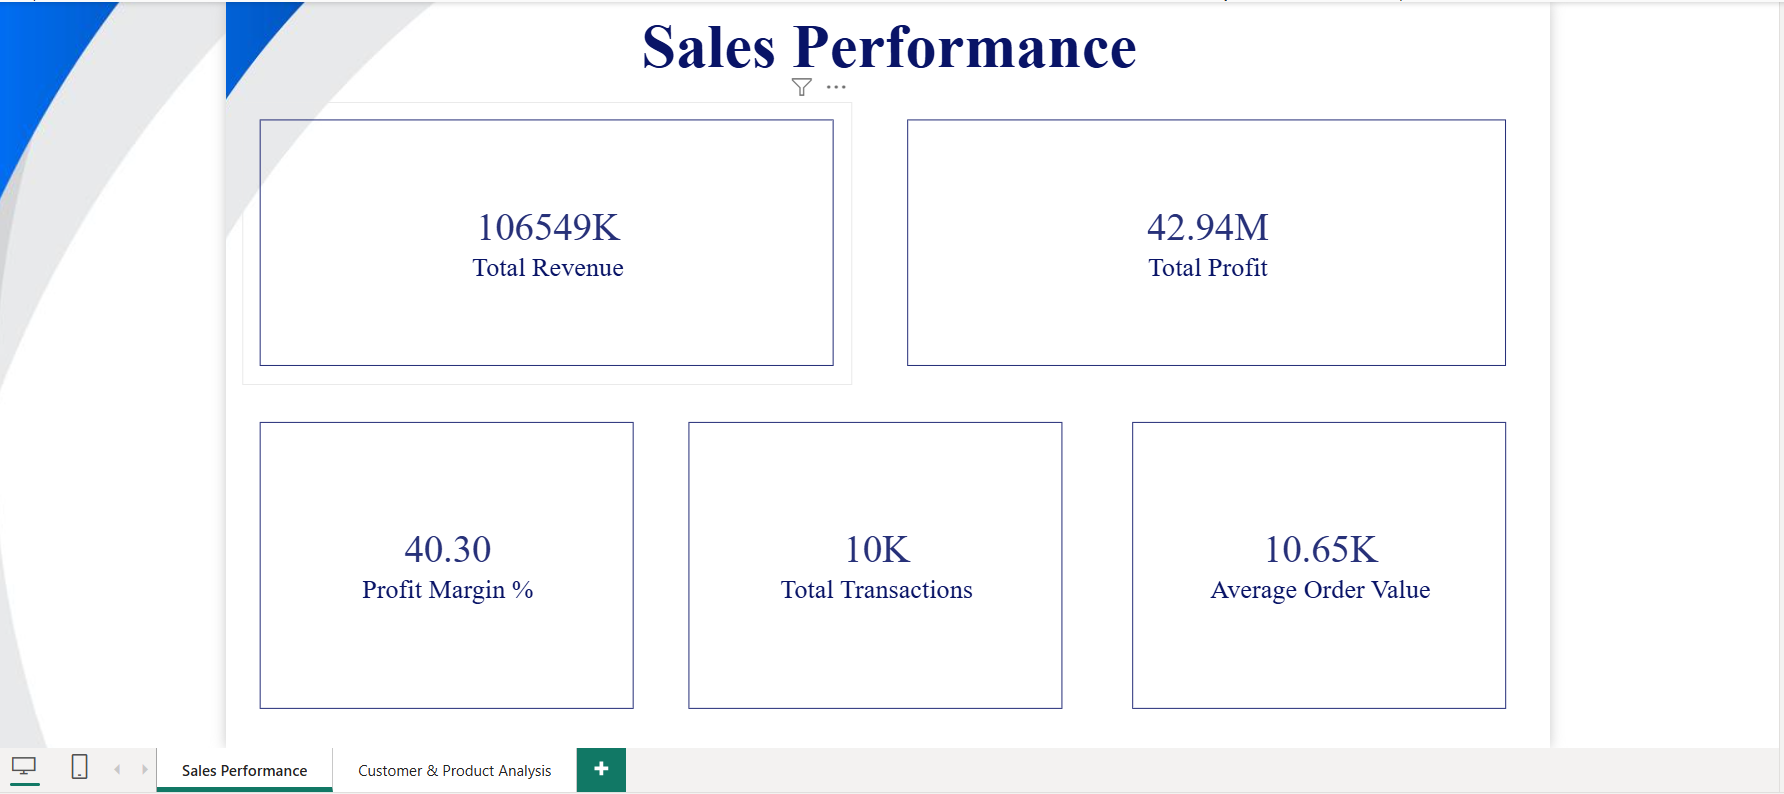

Layout of this report page (visuals, bound fields, positions):
{"tool":"powerbi","page":{"name":"Sales Performance","canvas":[1278,720],"ordinal":0},"visuals":[{"type":"shape","box":[0,0,1280,84.5],"z":0},{"type":"cardVisual","title":"Sum of all sales revenue","fields":{"Data":["Measure Table 1.Total Revenue"]},"box":[15.7,96.5,588.7,272.7],"z":1000},{"type":"cardVisual","fields":{"Data":["Measure Table 1.Total Profit"]},"box":[640.6,96.5,612.9,272.7],"z":2000},{"type":"cardVisual","fields":{"Data":["Measure Table 1.Profit Margin %"]},"box":[15.7,388.5,395.7,311.3],"z":3000},{"type":"cardVisual","fields":{"Data":["Measure Table 1.Total Transactions"]},"box":[429.5,388.5,395.7,311.3],"z":4000},{"type":"cardVisual","fields":{"Data":["Measure Table 1.Average Order Value"]},"box":[857.8,388.5,395.7,311.3],"z":5000}]}

Visuals, with their boxes on the page's 1278x720 design canvas (x1, y1, x2, y2). These are canvas units, not pixel positions in the 1784x794 screenshot, which may show the page scaled, cropped or inside an application window:
shape: Rect(0, 0, 1280, 84)
"Sum of all sales revenue" cardVisual: Rect(16, 96, 604, 369)
cardVisual - Measure Table 1.Total Profit: Rect(641, 96, 1254, 369)
cardVisual - Measure Table 1.Profit Margin %: Rect(16, 388, 411, 700)
cardVisual - Measure Table 1.Total Transactions: Rect(430, 388, 825, 700)
cardVisual - Measure Table 1.Average Order Value: Rect(858, 388, 1254, 700)
